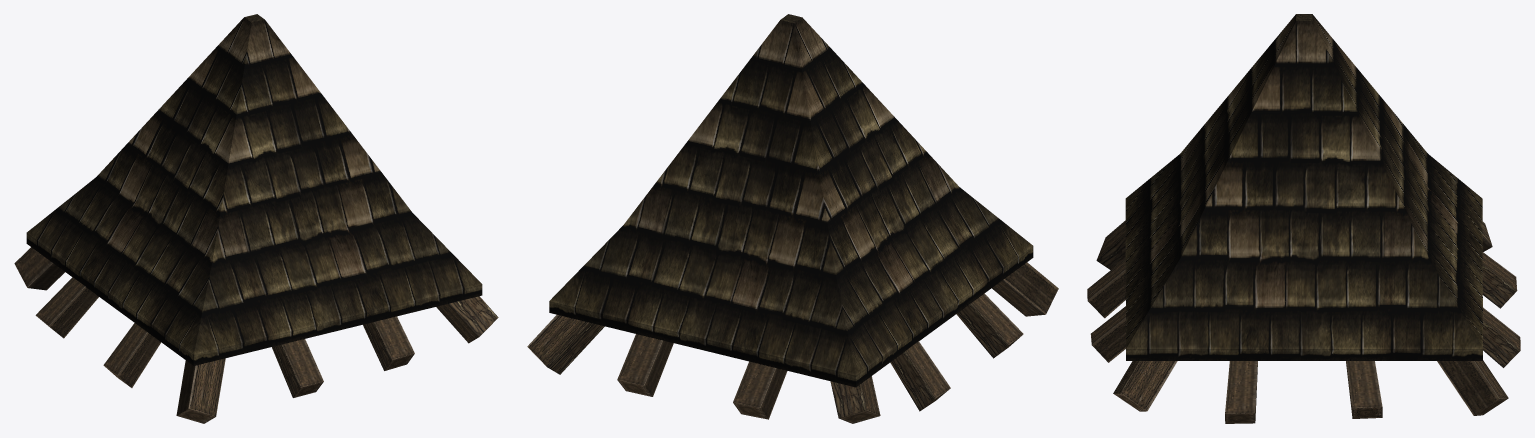
Rendered from Roof_4X4_03c.fbx.
3 renders of one model, left to right at view 1: azimuth 30°, elevation 25°; view 2: azimuth 150°, elevation 25°; view 3: azimuth 270°, elevation 25°, orthographic. The views are drawn at different scales.
Parts seen in each view (by area): view 1: Roof_4X4_03c; view 2: Roof_4X4_03c; view 3: Roof_4X4_03c.
Boxes of the visible parts, bbox=[...] form: Roof_4X4_03c: bbox=[14, 14, 498, 423]; Roof_4X4_03c: bbox=[527, 14, 1058, 423]; Roof_4X4_03c: bbox=[1087, 14, 1520, 423].
Size of the model in its own units: 5.87 by 4.9 by 5.81.
